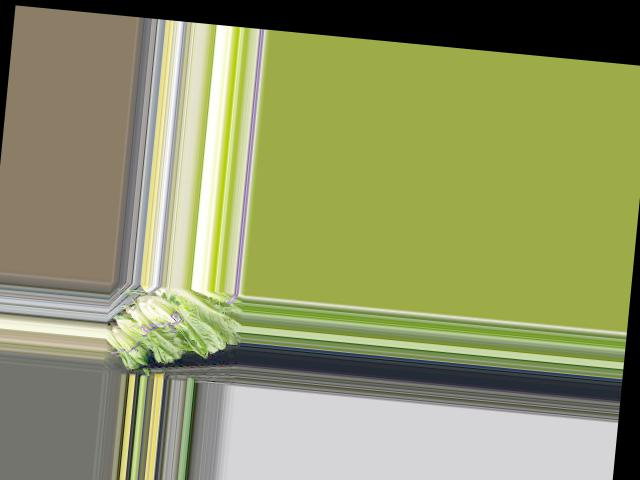lettuce: (161, 290, 242, 351)
